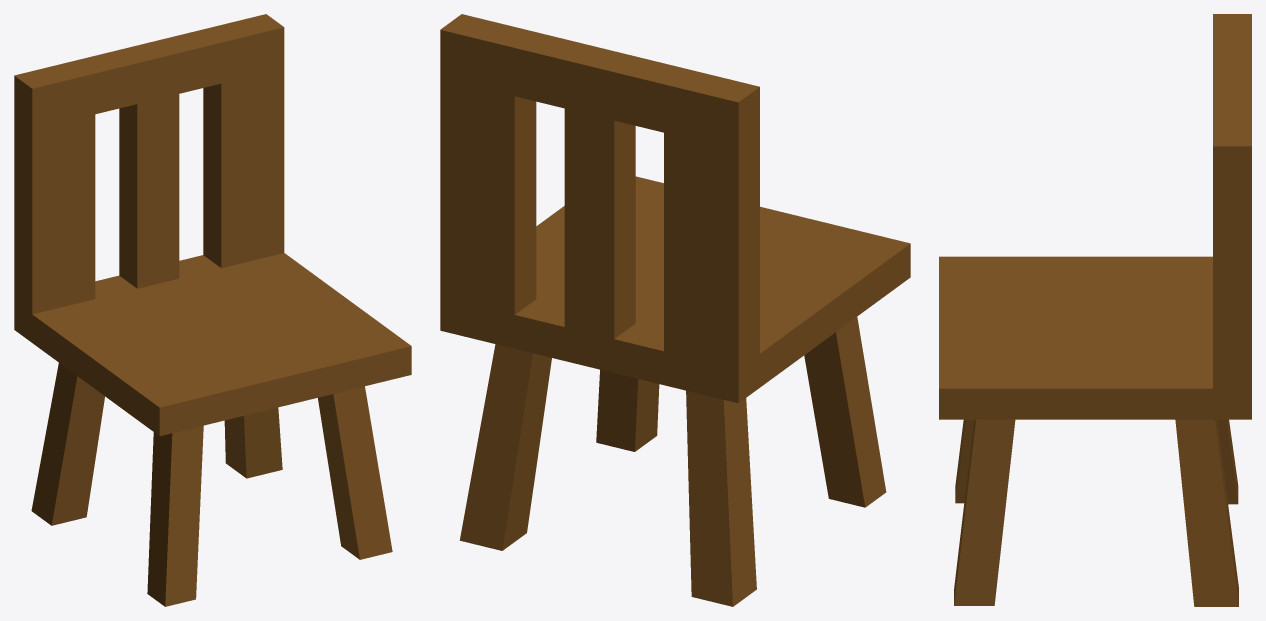
The model's file is Chair.fbx.
The picture shows the model from 3 angles, left to right: view 1: azimuth 30°, elevation 25°; view 2: azimuth 150°, elevation 25°; view 3: azimuth 270°, elevation 25°; orthographic projection. The views are drawn at different scales.
Visible parts, largest first — view 1: Cube; view 2: Cube; view 3: Cube.
Boxes of the visible parts, x1,y1,x2,y2 form: Cube: [14, 14, 411, 606]; Cube: [440, 14, 910, 606]; Cube: [939, 14, 1251, 606].
Size of the model in its own units: 200 by 329 by 200.
